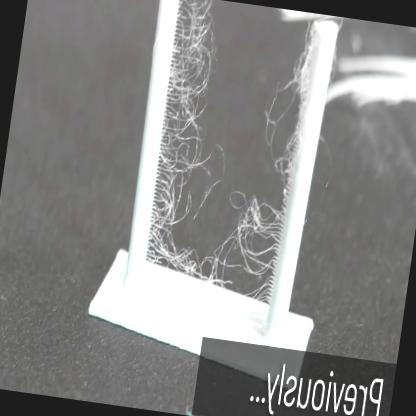fail: (144, 1, 309, 277)
